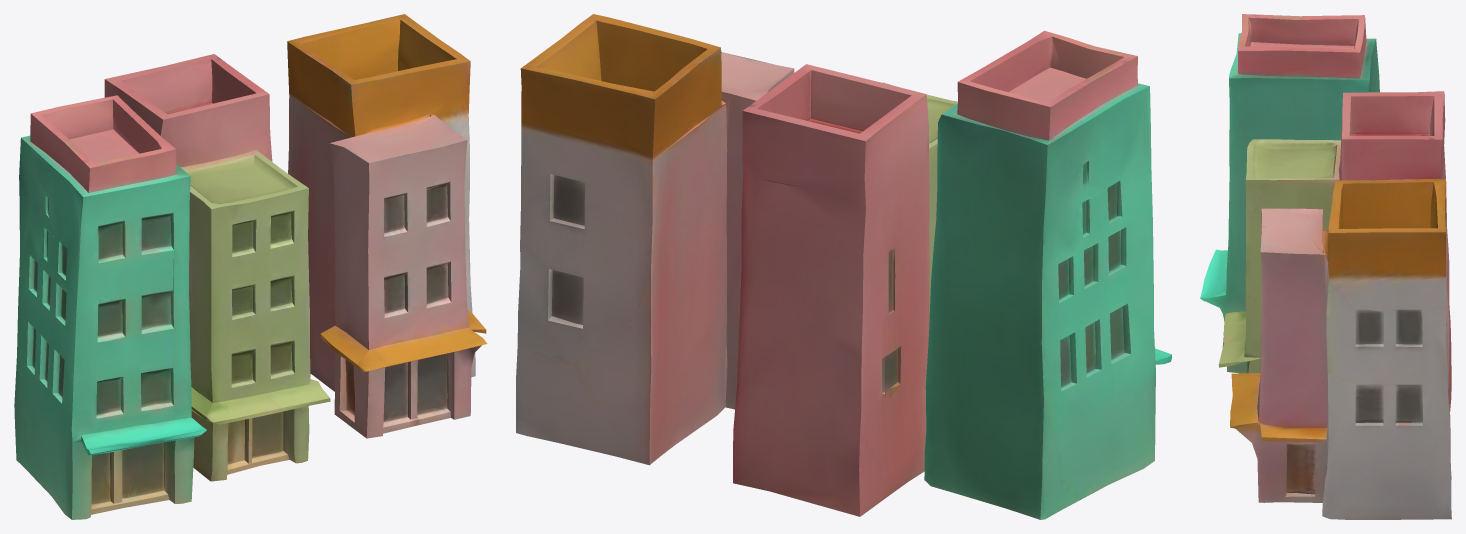
File: m2PastelCityBg.glb
3 views of the same model, side by side, from view 1: azimuth 30°, elevation 25°; view 2: azimuth 150°, elevation 25°; view 3: azimuth 270°, elevation 25° (orthographic). The views are drawn at different scales.
Visible parts, largest first — view 1: model; view 2: model; view 3: model.
Part boxes in pixels (bbox=[...]): model: bbox=[14, 14, 487, 519]; model: bbox=[516, 14, 1171, 519]; model: bbox=[1200, 14, 1451, 519].
Bounding box in the file's own units: 1.9 × 1.45 × 1.02.
1 material, 1 textured.
